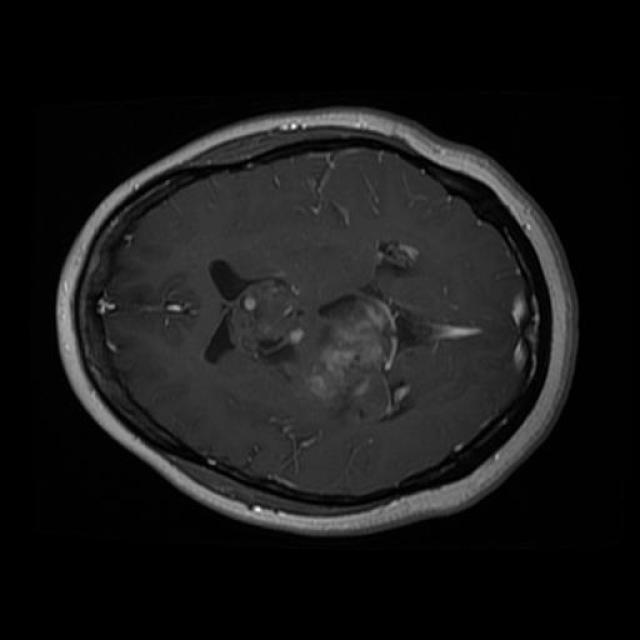Glioma: (228, 279, 396, 408)
